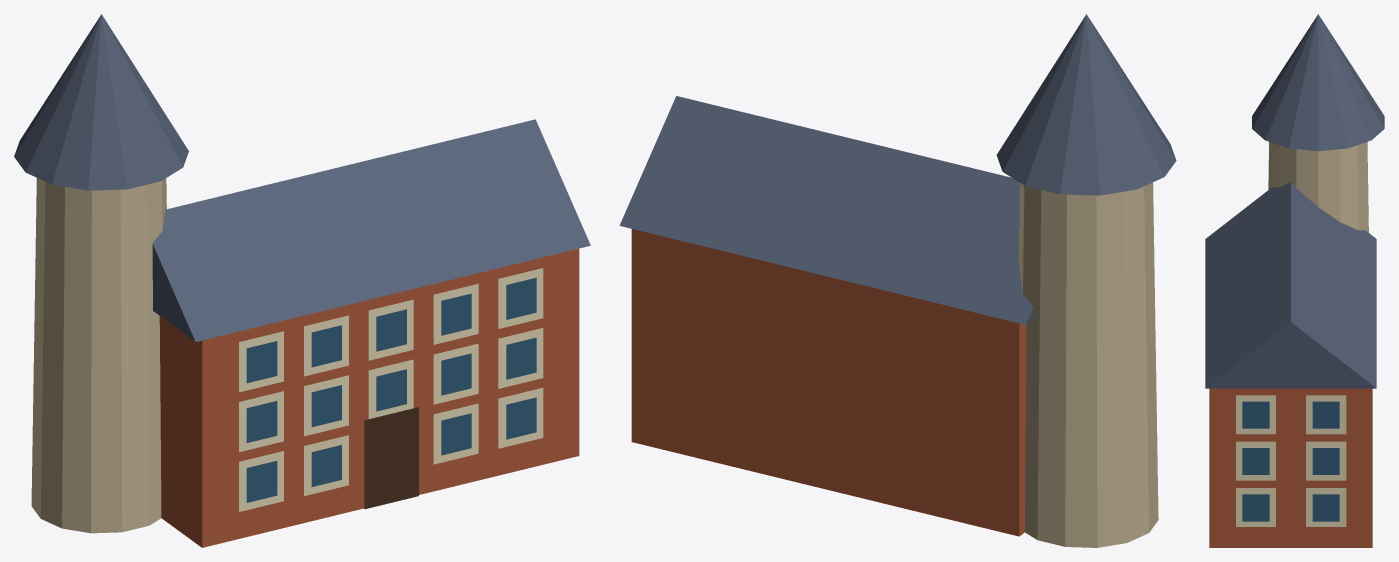
File: building_university.fbx
3 views of the same model, side by side, from view 1: azimuth 30°, elevation 25°; view 2: azimuth 150°, elevation 25°; view 3: azimuth 270°, elevation 25° (orthographic). The views are drawn at different scales.
Visible parts, largest first — view 1: building_university; view 2: building_university; view 3: building_university.
Part boxes in pixels (x1=…): building_university: x1=14, y1=14, x2=590, y2=547; building_university: x1=619, y1=14, x2=1176, y2=547; building_university: x1=1205, y1=14, x2=1384, y2=547.
Bounding box in the file's own units: 81 × 77 × 32.94.
